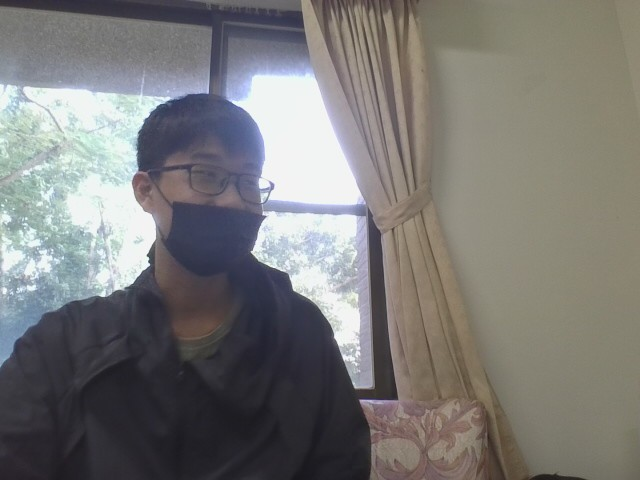No_Helmet: (131, 91, 274, 279)
person: (0, 81, 406, 480)
